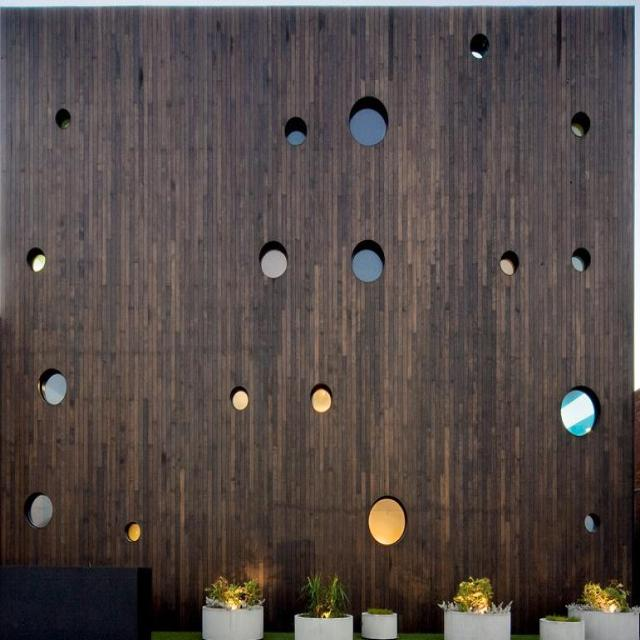wall: (3, 4, 637, 634)
windows: (559, 388, 598, 437), (368, 496, 406, 544), (350, 98, 387, 146), (352, 241, 383, 281), (24, 491, 54, 529), (259, 241, 287, 277), (40, 370, 67, 404), (284, 115, 308, 147), (310, 386, 332, 414), (27, 248, 47, 272), (231, 387, 250, 412), (571, 247, 590, 271), (472, 34, 490, 57), (500, 252, 518, 275), (54, 107, 72, 130), (571, 113, 588, 134), (582, 512, 598, 532)
